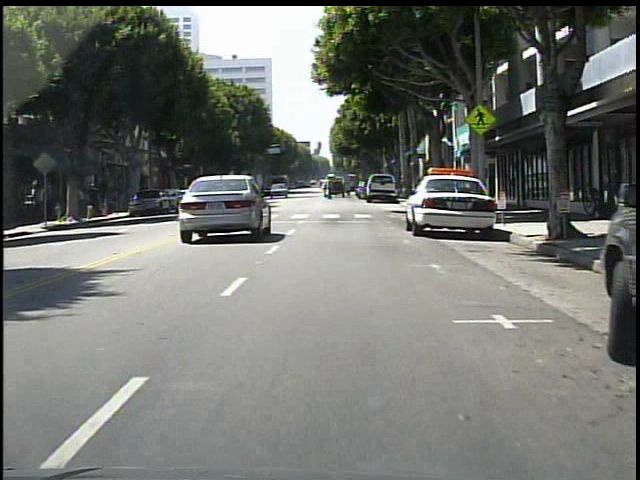person: (90, 182, 103, 219), (36, 181, 47, 220), (80, 186, 91, 218), (329, 177, 330, 199)
